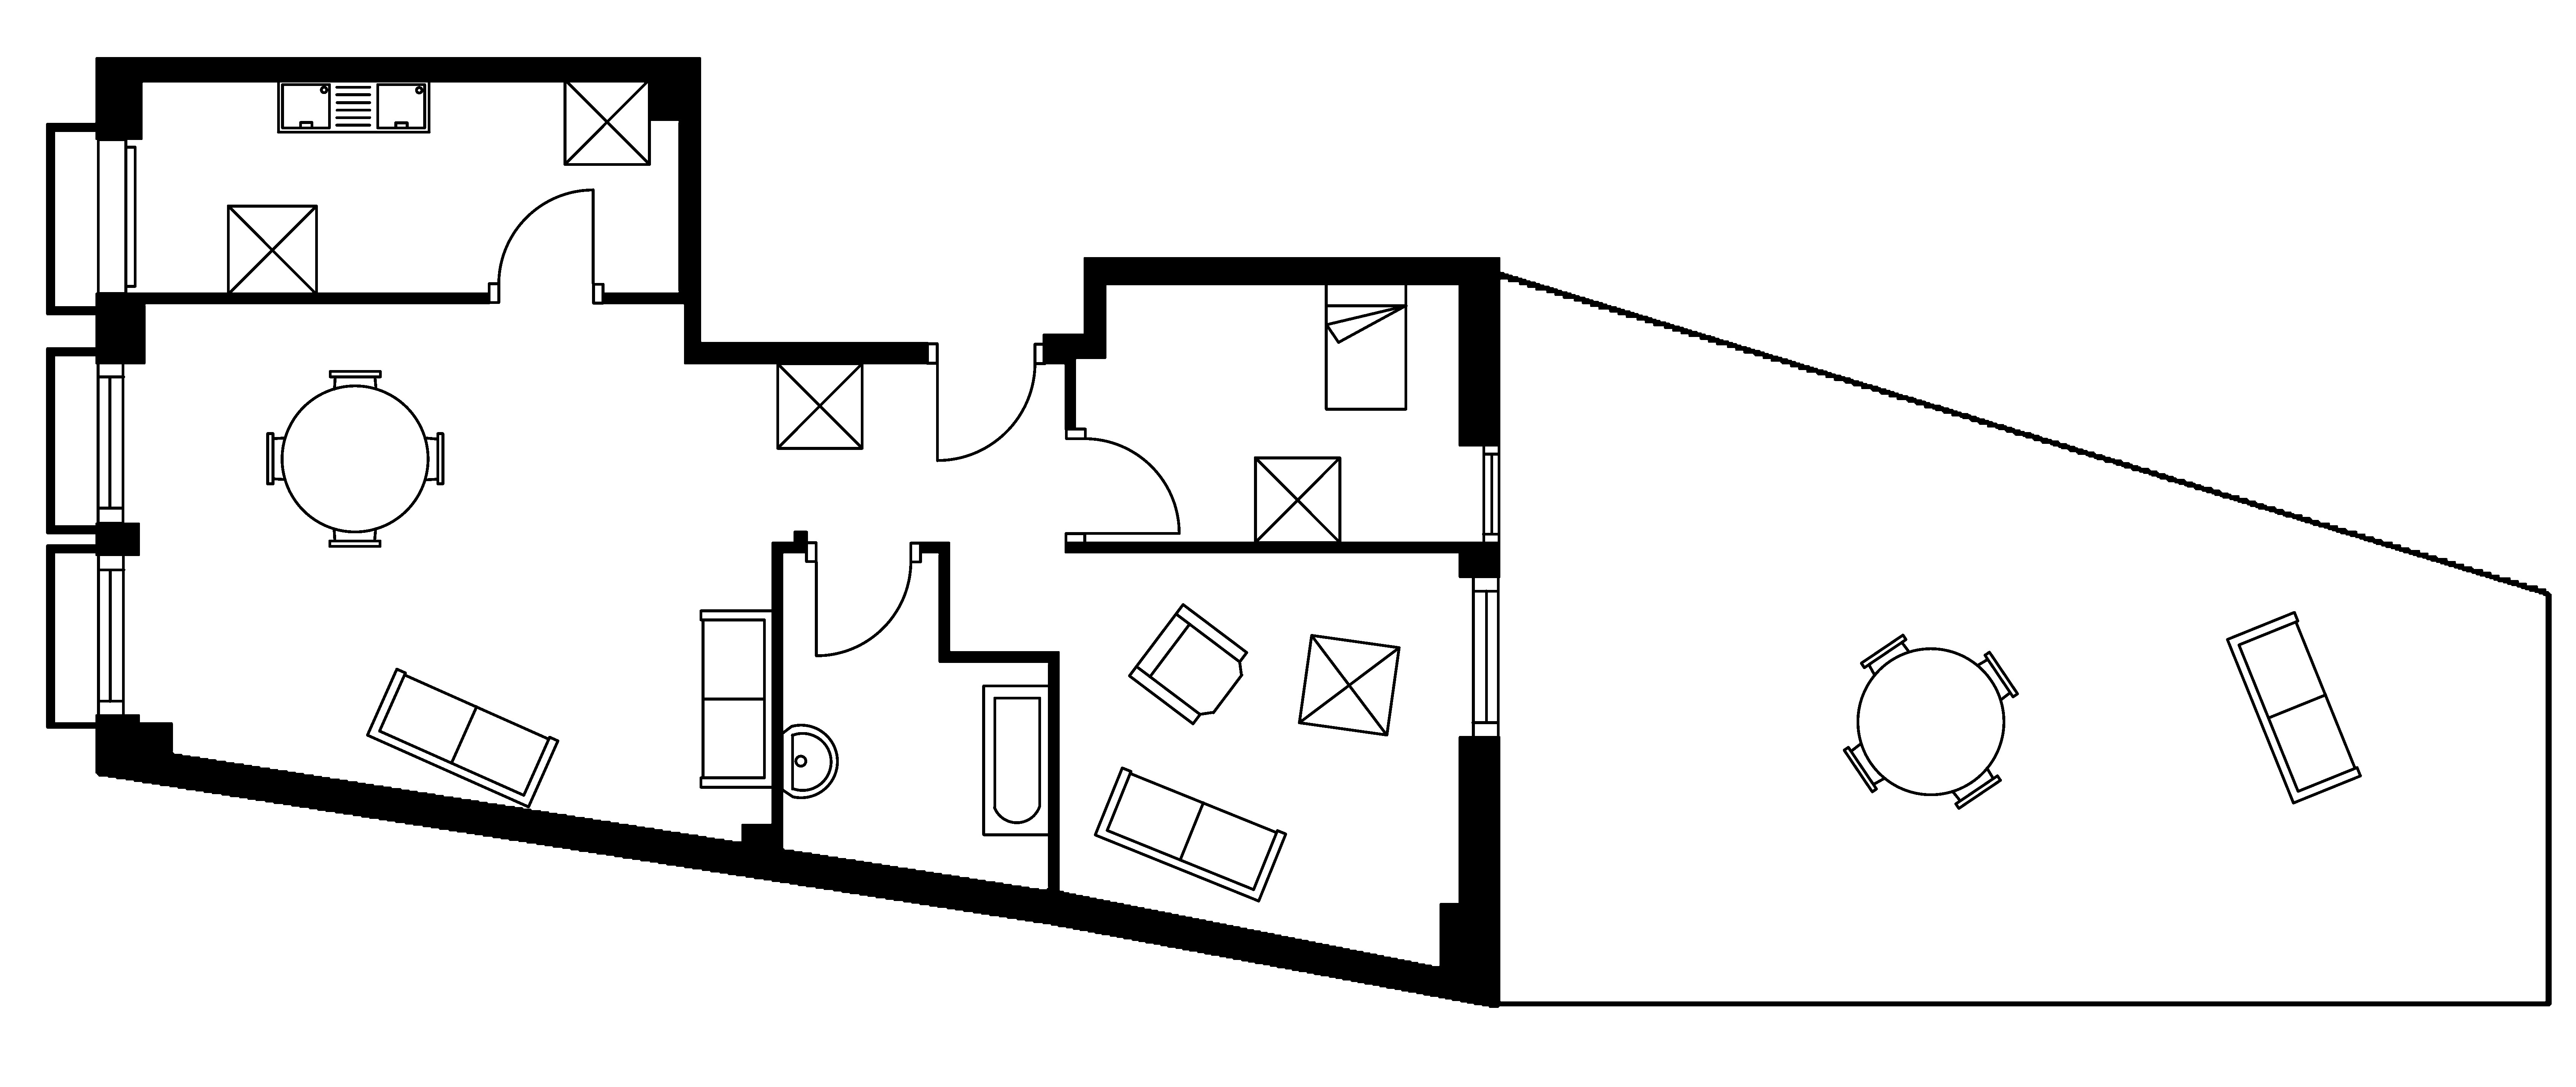armchair: (1127, 602, 1249, 725)
bed: (1324, 281, 1408, 411)
coffee_table: (1296, 633, 1401, 737), (225, 204, 319, 296), (562, 77, 651, 166), (775, 362, 864, 451), (1253, 456, 1342, 544)
large_sofa: (365, 668, 559, 809), (2224, 610, 2362, 804), (1092, 766, 1288, 903), (698, 608, 774, 789)
round_table: (266, 370, 445, 548), (1842, 633, 2019, 811)
small_sink: (780, 724, 838, 799)
tub: (981, 684, 1051, 837)
twin_sink: (276, 77, 430, 133)
